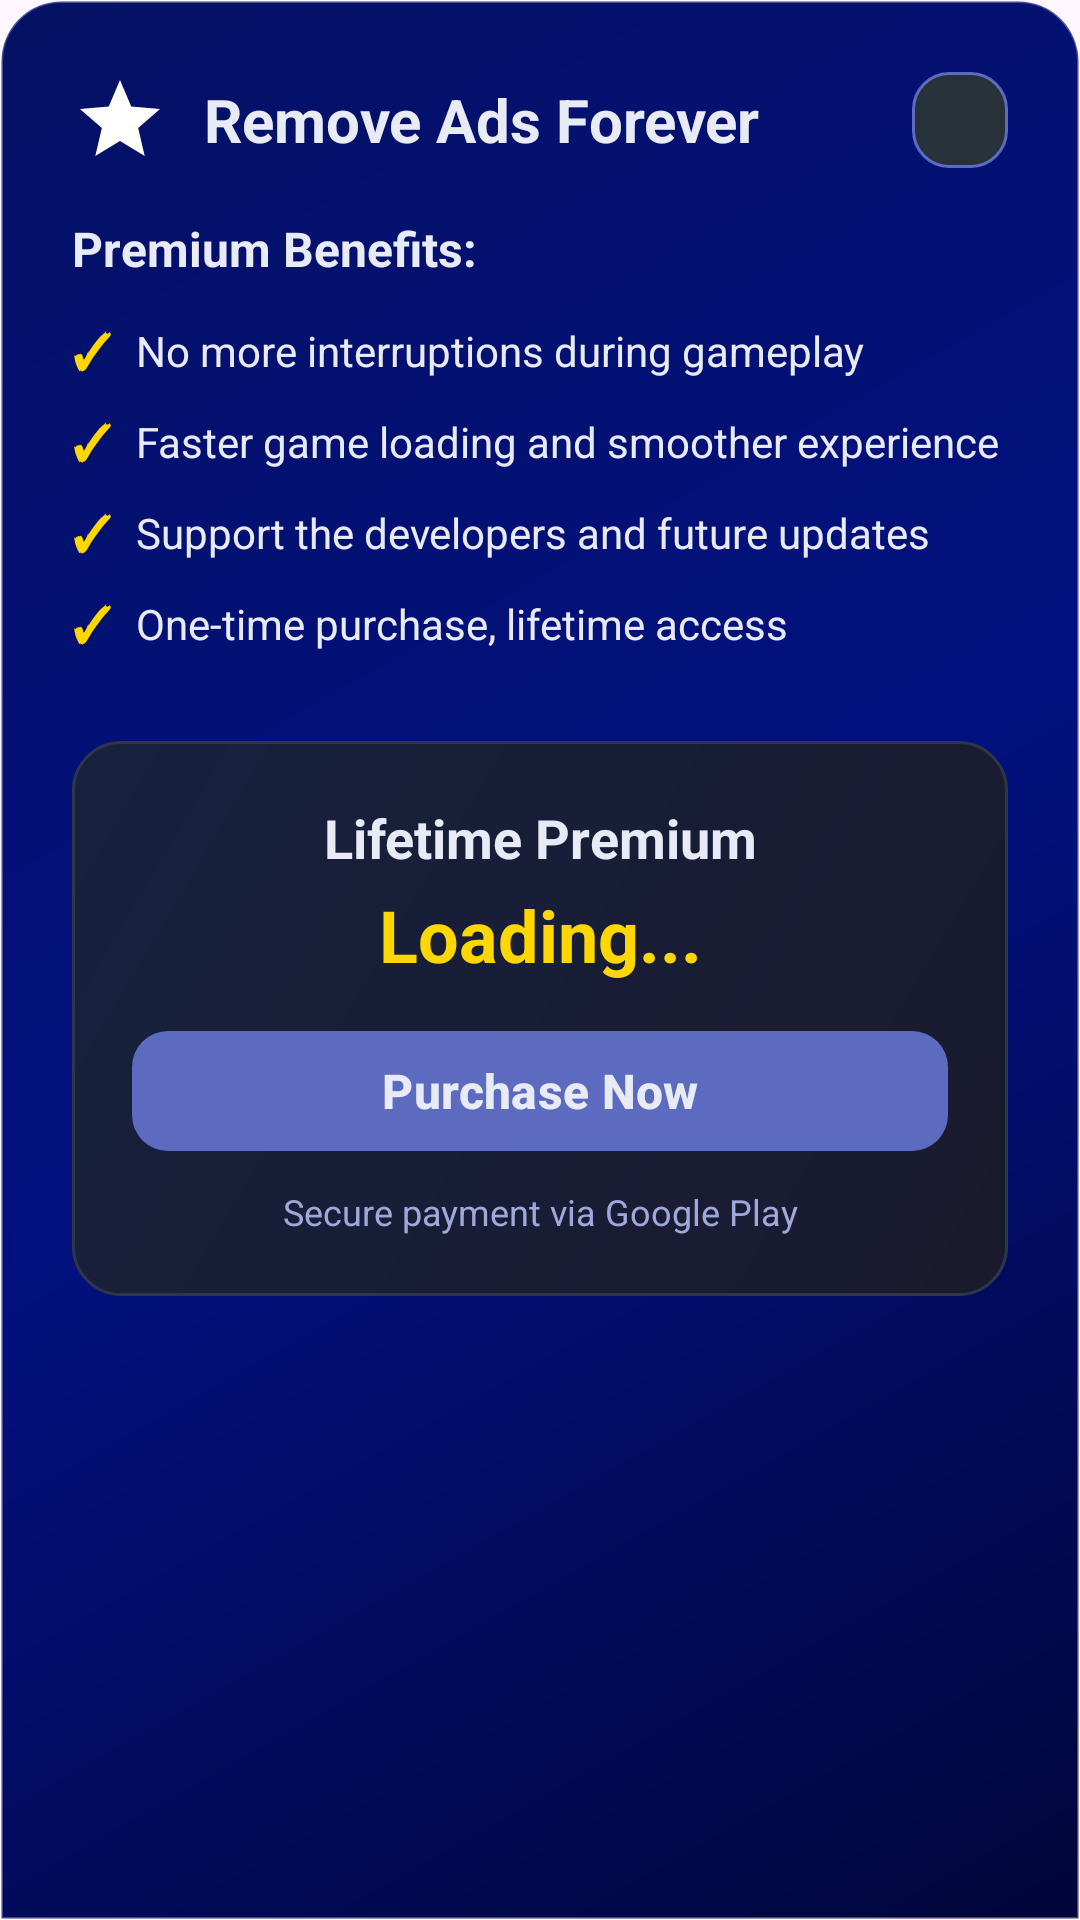

Where to tap for icons on this 1080×1920 app screen, as point (x, y):
star: point (120, 118)
